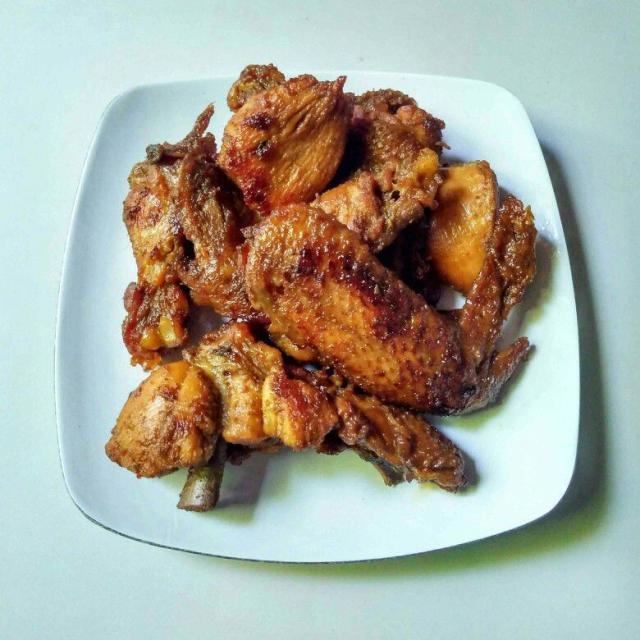ayam_goreng: (73, 66, 556, 540)
